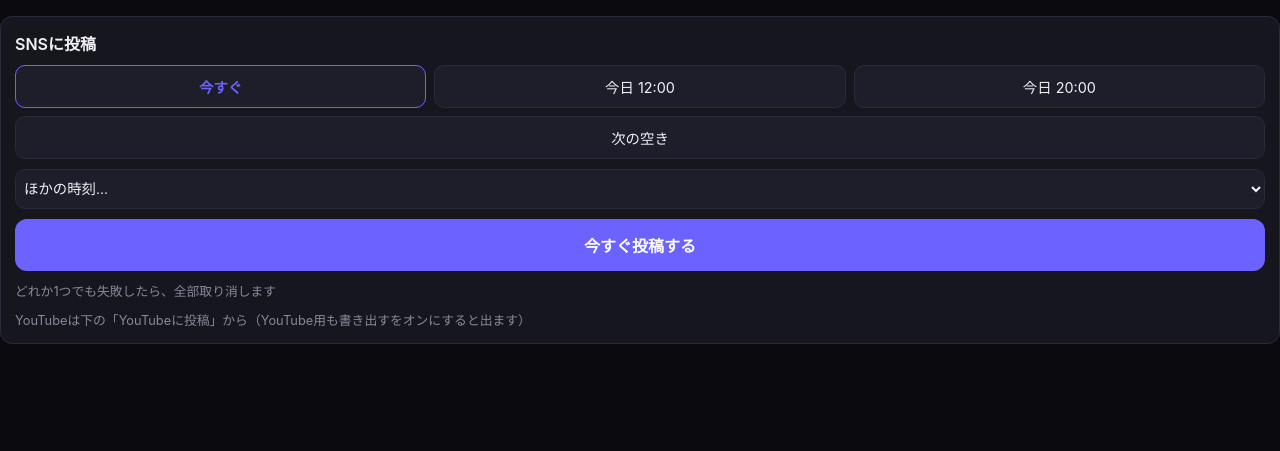
Test: PostToSns › takes the results from the server when the answer was lost
The image size is (1280, 451).
Click the button "今すぐ投稿する".
click(640, 245)  # box [15,219,1265,271]
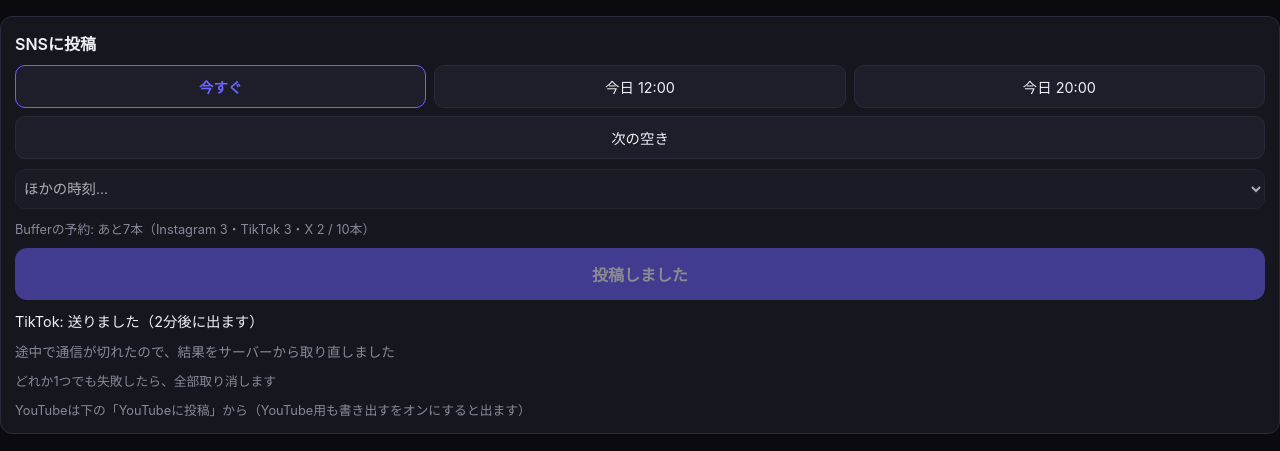
Expected: the list item "TikTok: 送りました（2分後に出ます）" is shown, [15,313,264,330]
Expected: the text "途中で通信が切れたので、結果をサーバーから取り直しました" is shown, [15,344,395,360]
